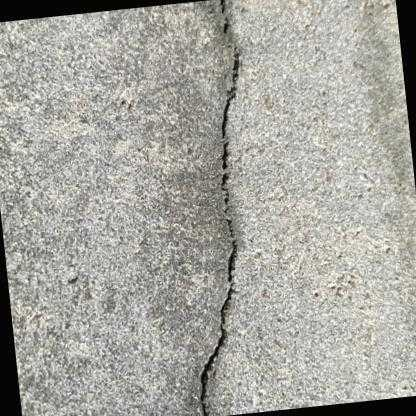crack: (198, 0, 239, 416)
